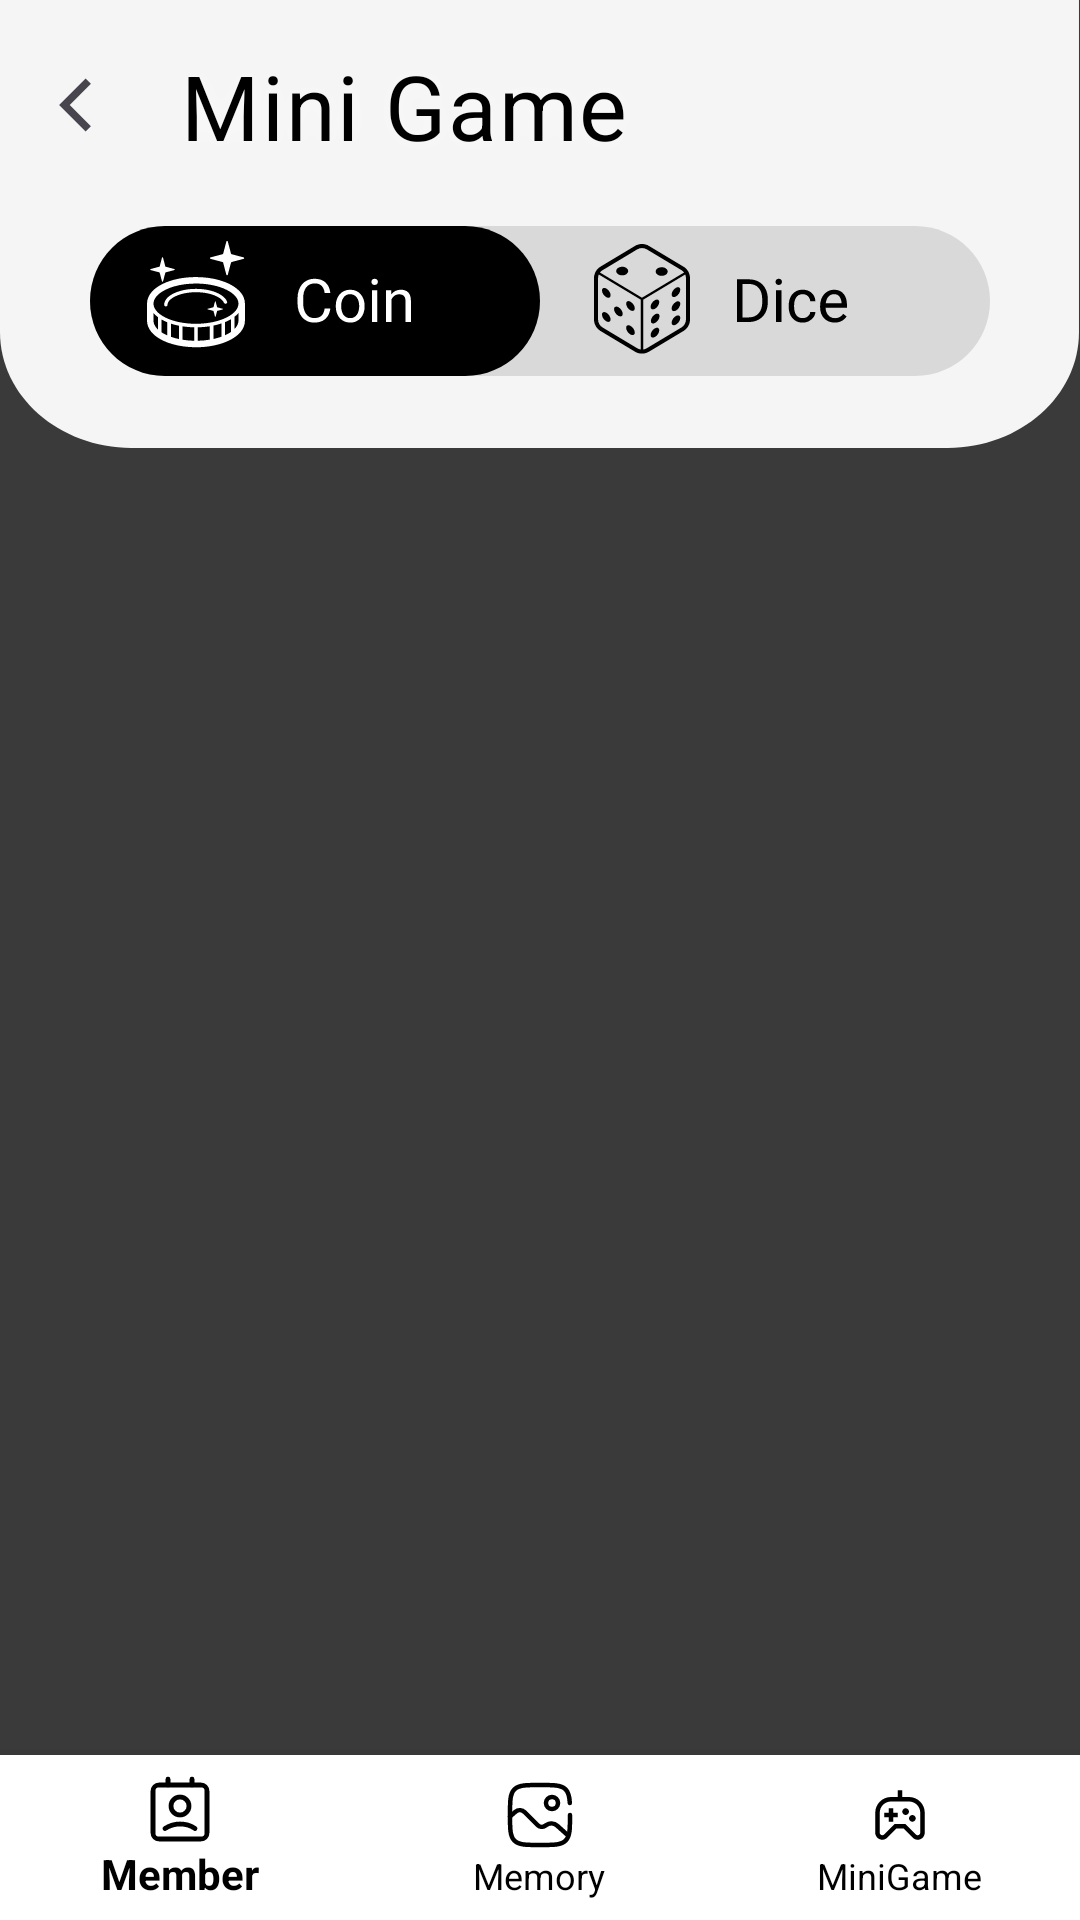

Icon click points for this 1080×1920 phone screenshot, format (x=x, y=y):
뒤로가기: (x=75, y=105)
